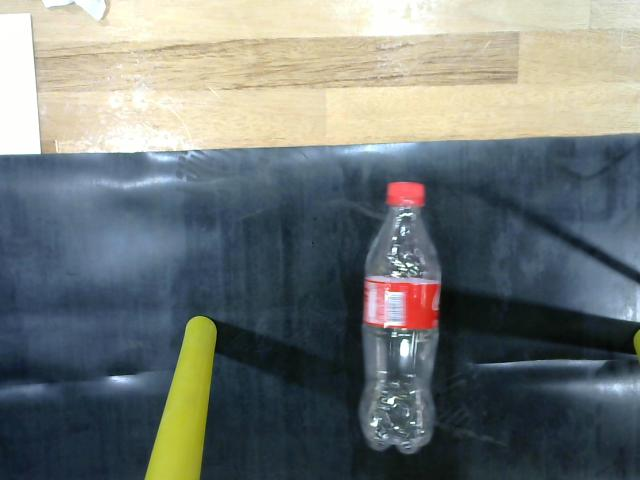bottle: (351, 174, 454, 460)
